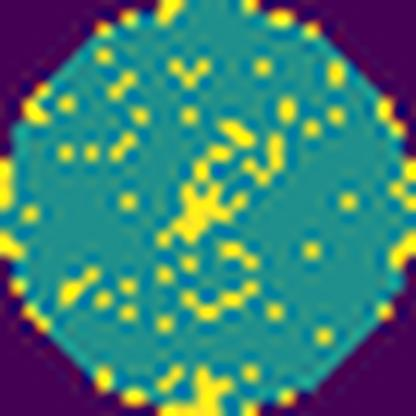Center: (155, 178, 256, 252)
